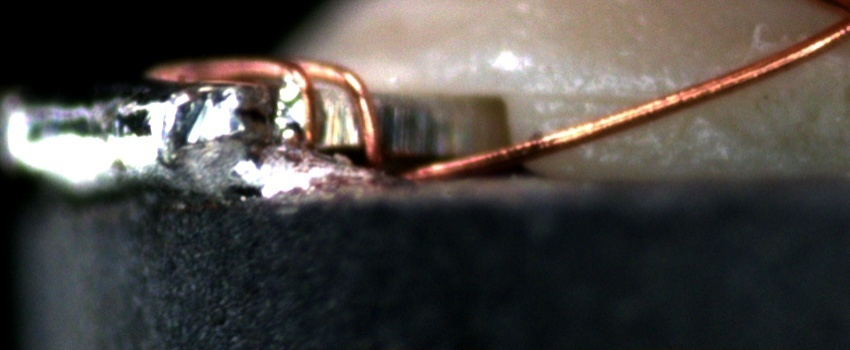CL: (822, 1, 850, 42)
DL: (511, 66, 663, 130)
TE: (142, 48, 403, 181)
